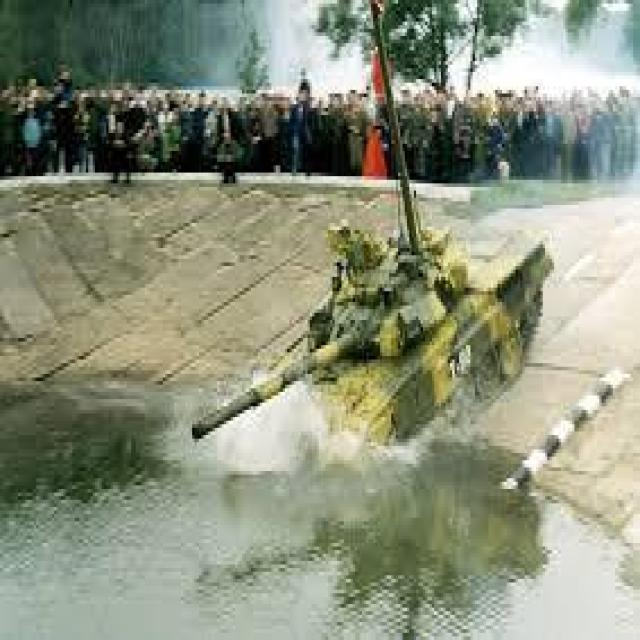Tanks: (280, 192, 552, 430)
